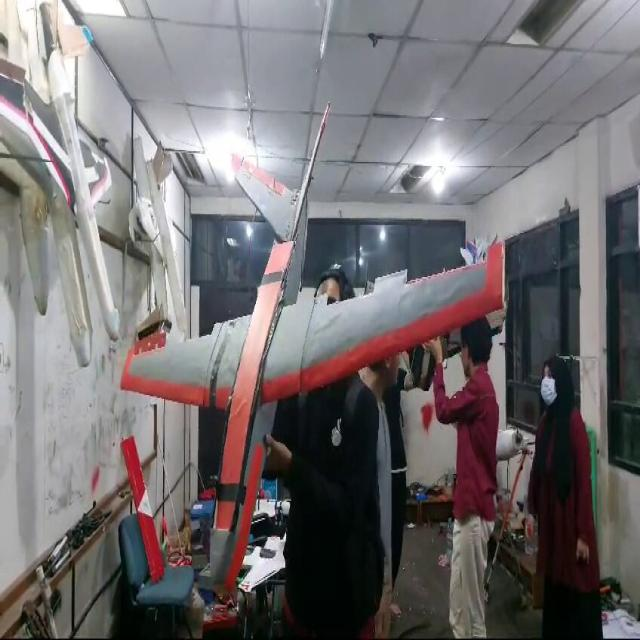plane: (118, 99, 508, 603)
